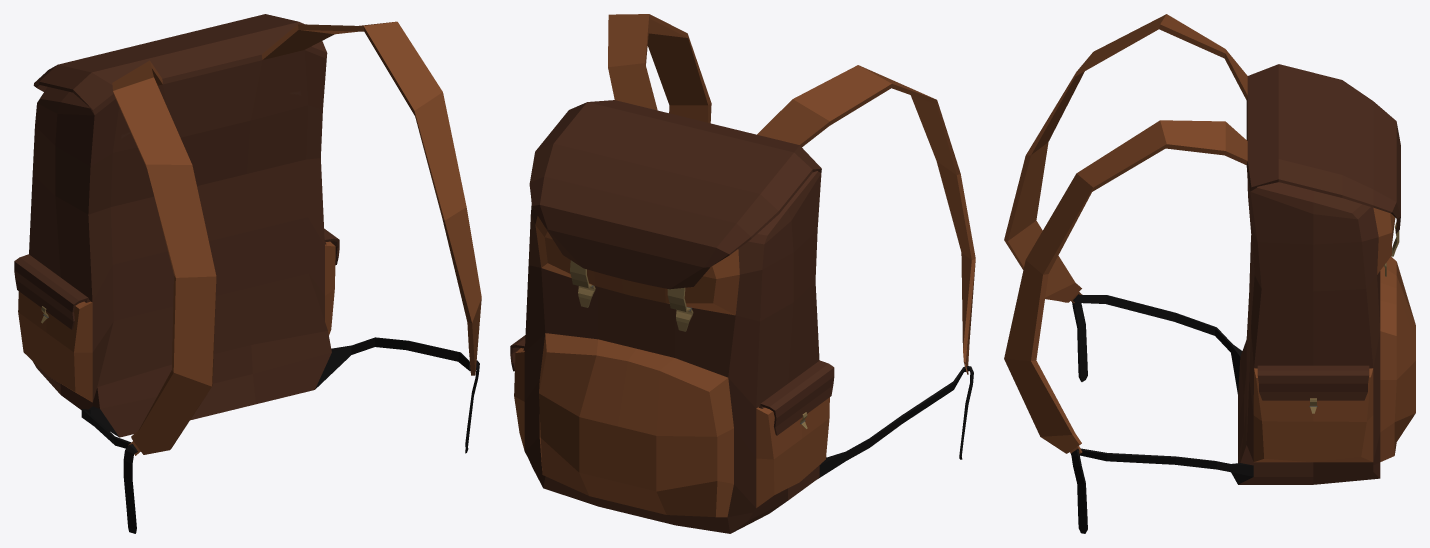
Rendered from mochila.obj.
The picture shows the model from 3 angles, left to right: view 1: azimuth 30°, elevation 25°; view 2: azimuth 150°, elevation 25°; view 3: azimuth 270°, elevation 25°; orthographic projection. The views are drawn at different scales.
Parts seen in each view (by area): view 1: Cube.001; view 2: Cube.001; view 3: Cube.001.
Boxes of the visible parts, left/top/right/bottom form: Cube.001: left=14, top=14, right=481, bottom=533; Cube.001: left=510, top=14, right=975, bottom=533; Cube.001: left=1004, top=14, right=1415, bottom=533.
Bounding box in the file's own units: 0.3482 × 0.3849 × 0.3729.
Materials: 1 (1 with a texture image).
